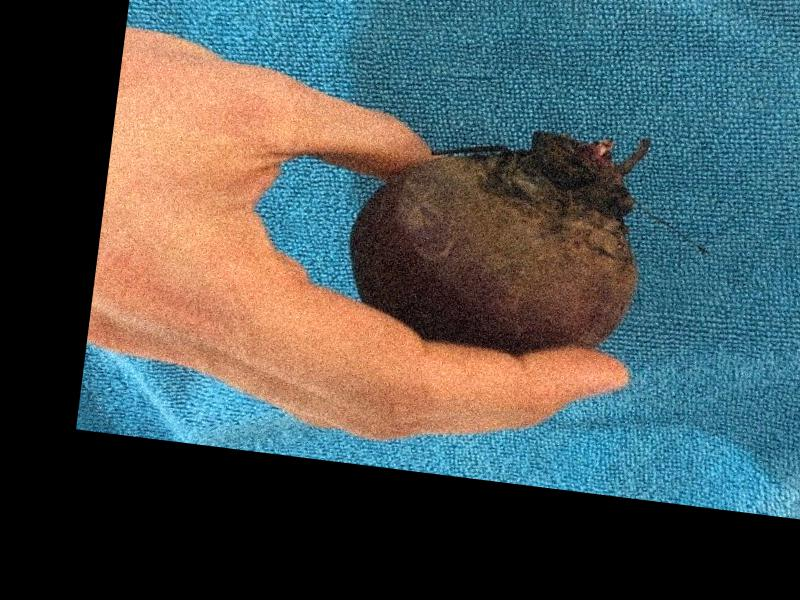Beet: (341, 105, 652, 365)
